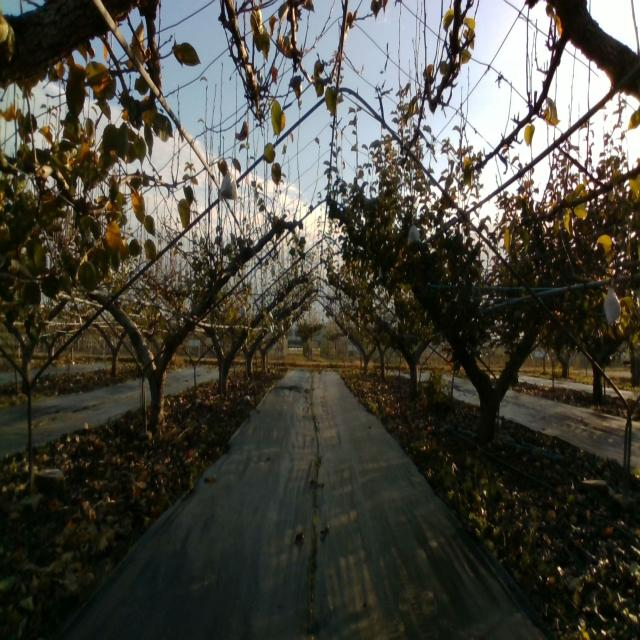pearbags: (218, 164, 239, 202), (603, 286, 622, 324), (406, 220, 421, 246)
